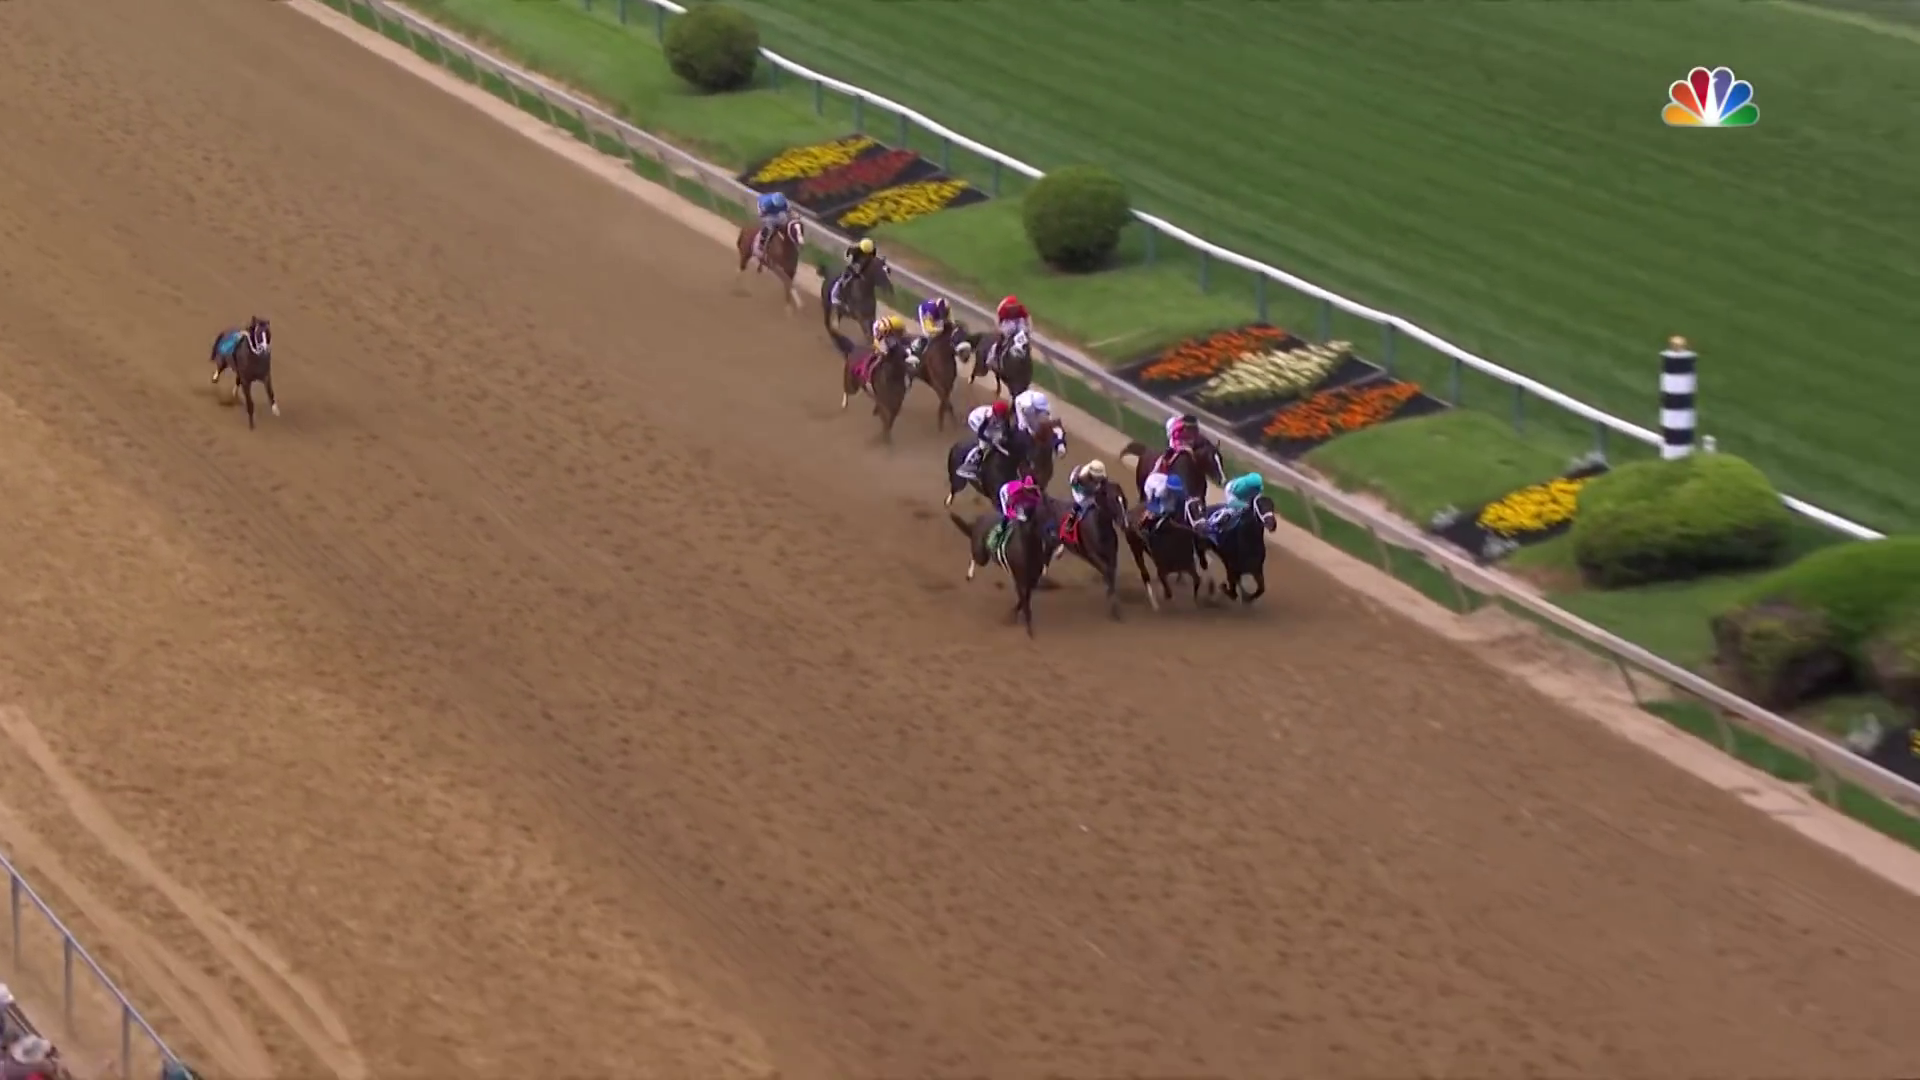jockey: (996, 477, 1042, 541), (1069, 459, 1110, 529), (968, 404, 1007, 467), (1216, 473, 1265, 520), (1141, 475, 1184, 525), (918, 298, 953, 359), (997, 295, 1033, 351), (872, 316, 906, 372), (843, 237, 880, 287), (1167, 413, 1205, 460), (757, 193, 789, 249), (1017, 392, 1051, 435)
